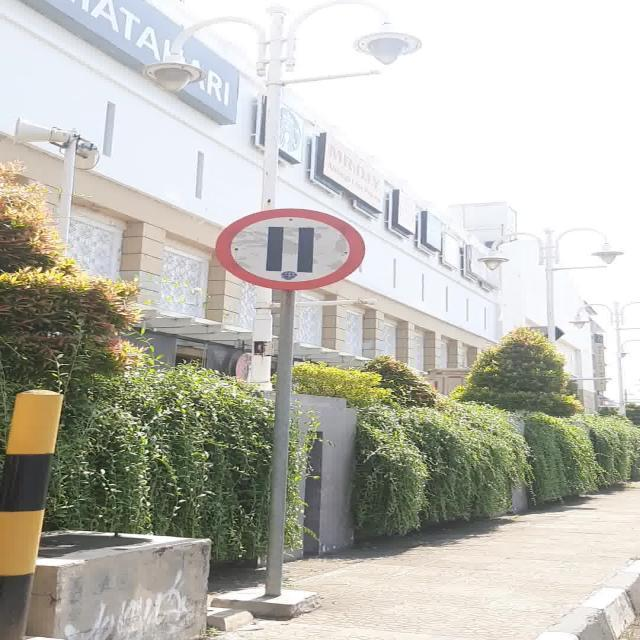Larangan Muatan - 10 ton: (214, 208, 366, 290)
